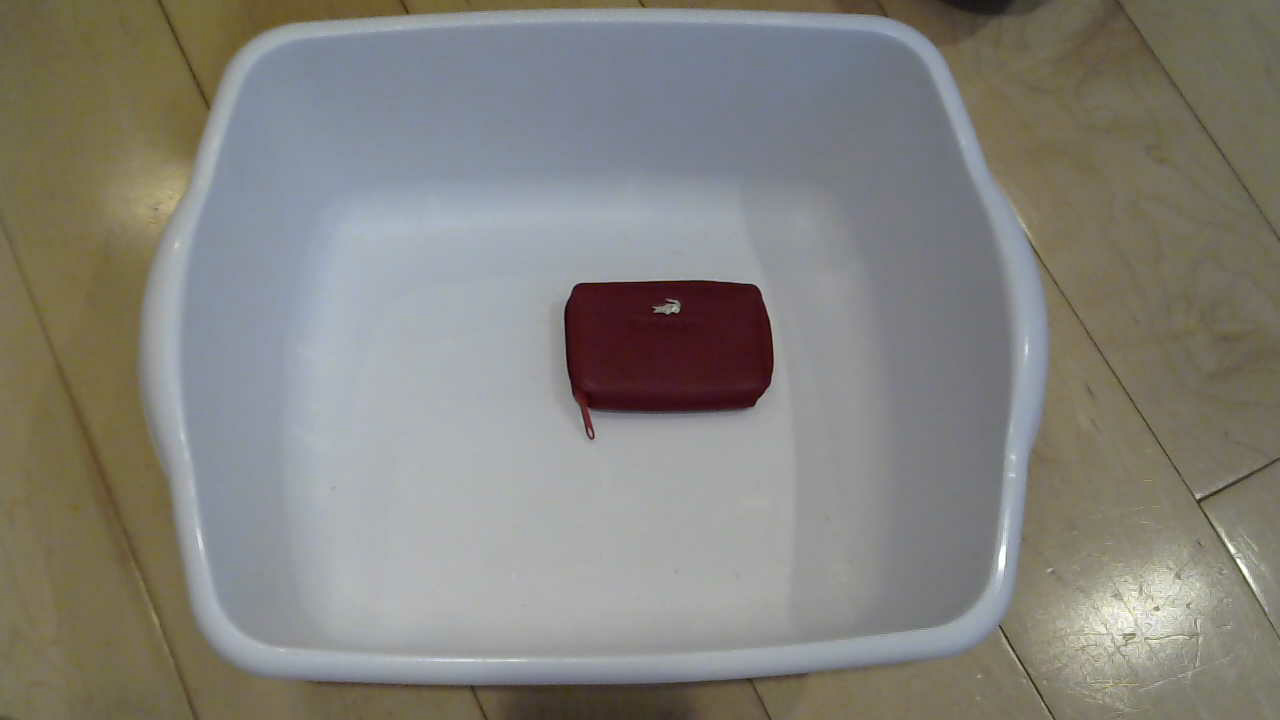wallet: (545, 268, 802, 460)
